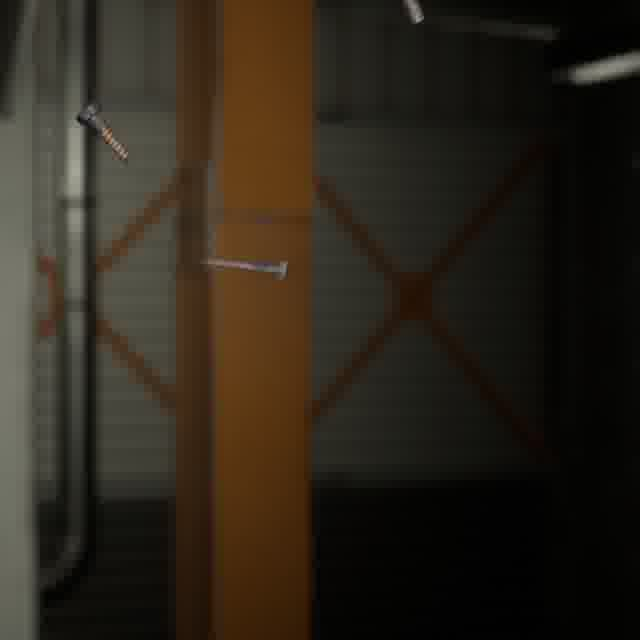bolt: (71, 96, 135, 166), (196, 253, 294, 284), (396, 0, 429, 30)
